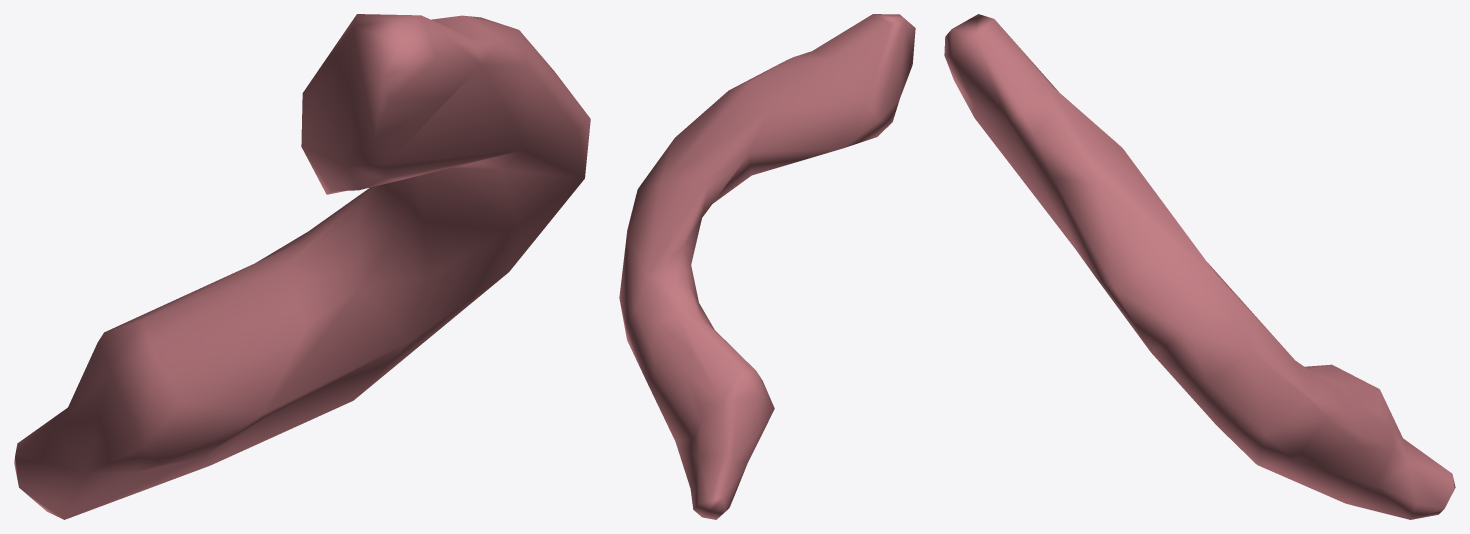
The picture shows the model from 3 angles, left to right: view 1: azimuth 30°, elevation 25°; view 2: azimuth 150°, elevation 25°; view 3: azimuth 270°, elevation 25°; orthographic projection. The views are drawn at different scales.
Parts seen in each view (by area): view 1: 左侧肛门外括约肌; view 2: 左侧肛门外括约肌; view 3: 左侧肛门外括约肌.
Boxes of the visible parts, x1,y1,x2,y2 form: 左侧肛门外括约肌: (14, 14, 590, 519); 左侧肛门外括约肌: (619, 14, 915, 519); 左侧肛门外括约肌: (944, 14, 1455, 519).
Bounding box in the file's own units: 0.0177 × 0.0336 × 0.0318.
